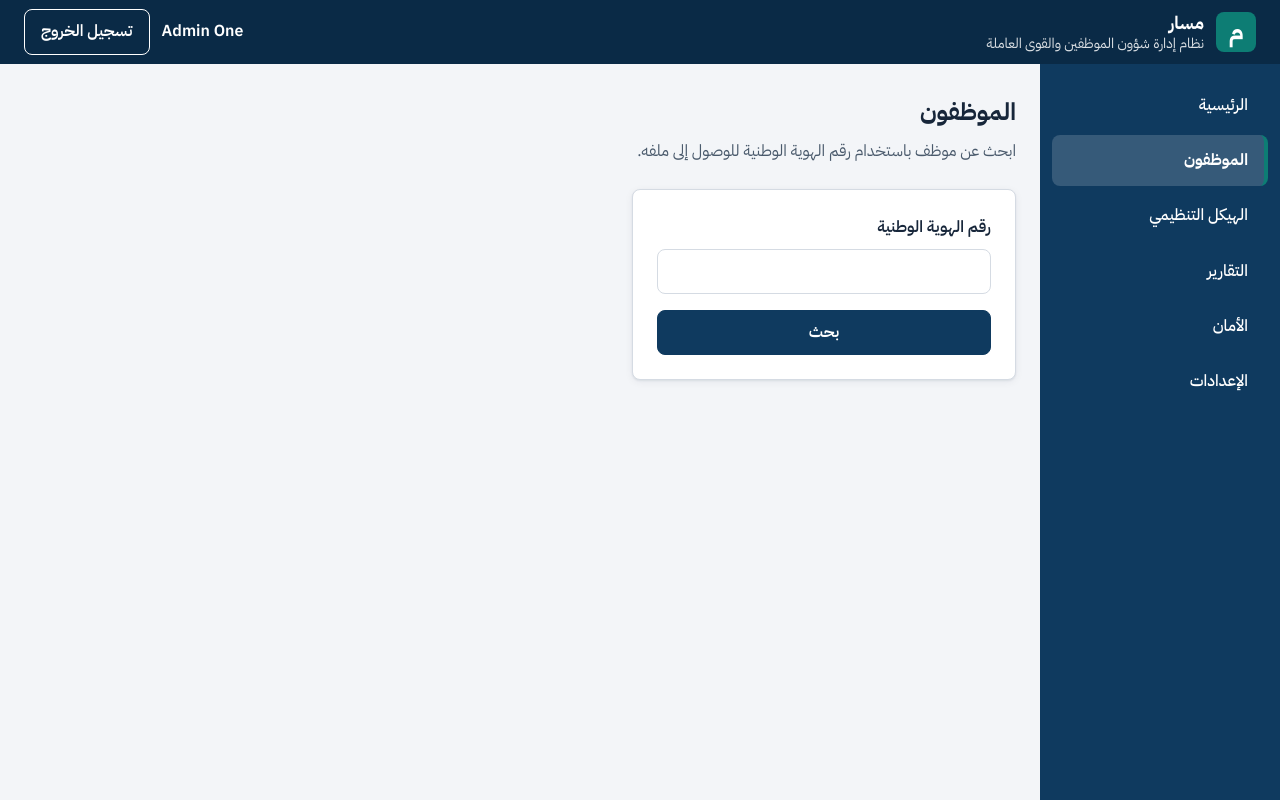
Scenario: EmployeesPage › finds a person and lists their employment relationships with a link to Employee 360
Type "1234567890" into the field labelled "رقم الهوية الوطنية" at (824, 272), box [657,249,991,294]
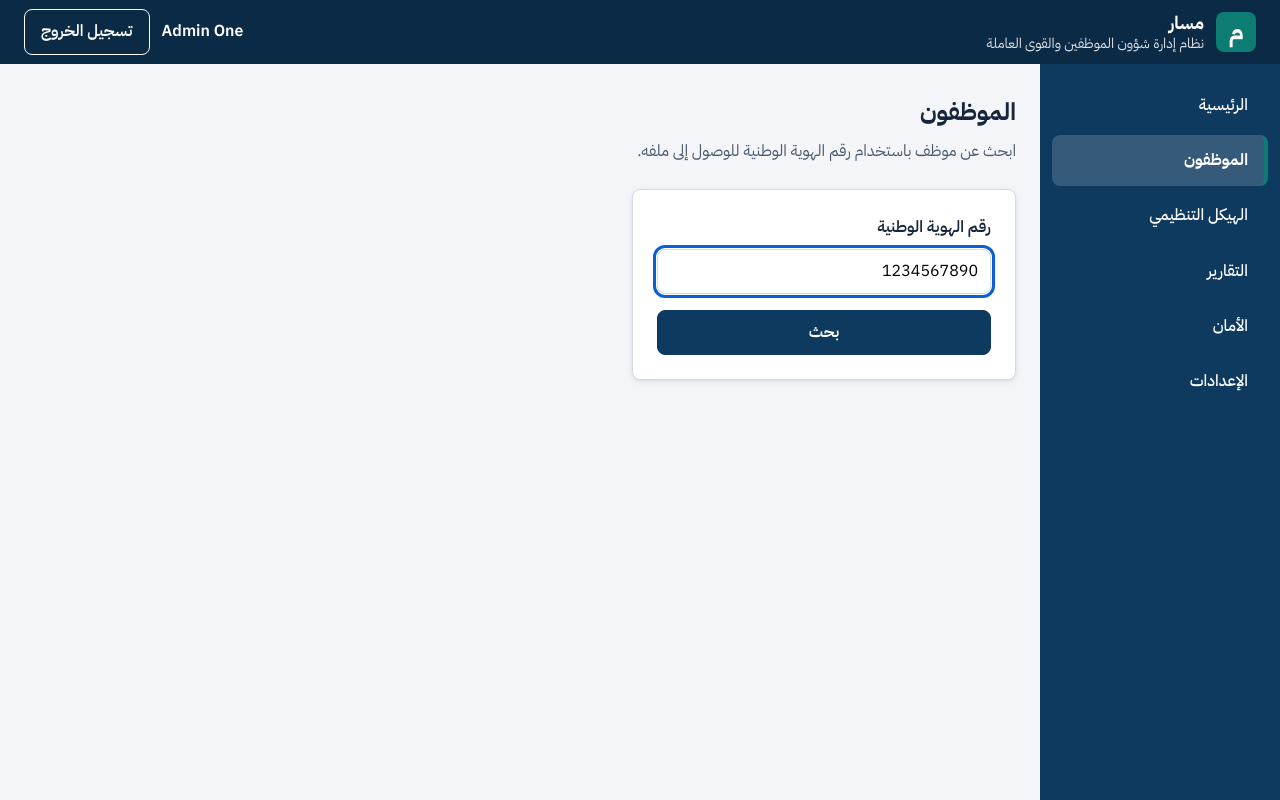
Click the button "بحث" at (824, 333), box [657,310,991,355]
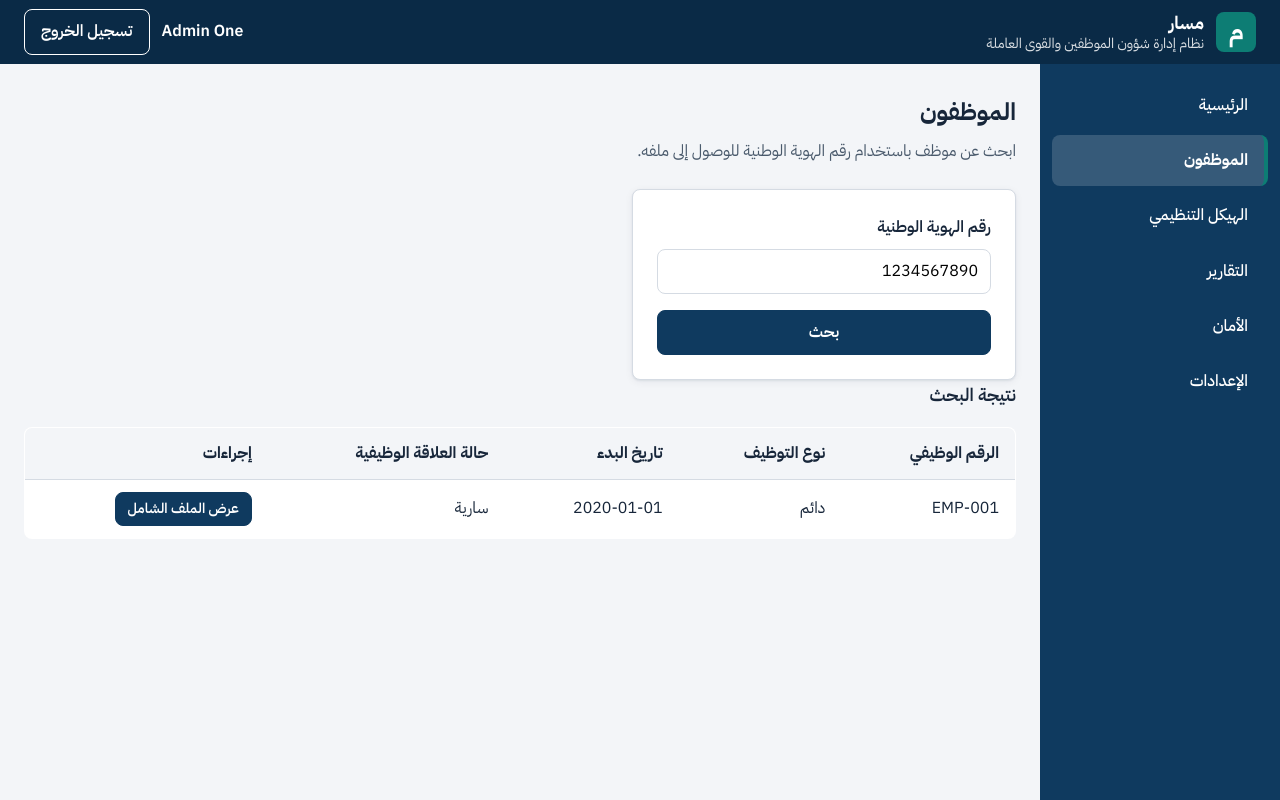
Result: the text "EMP-001" is shown at [841,480,1016,538]
Result: the text "دائم" is shown at [679,480,841,538]
